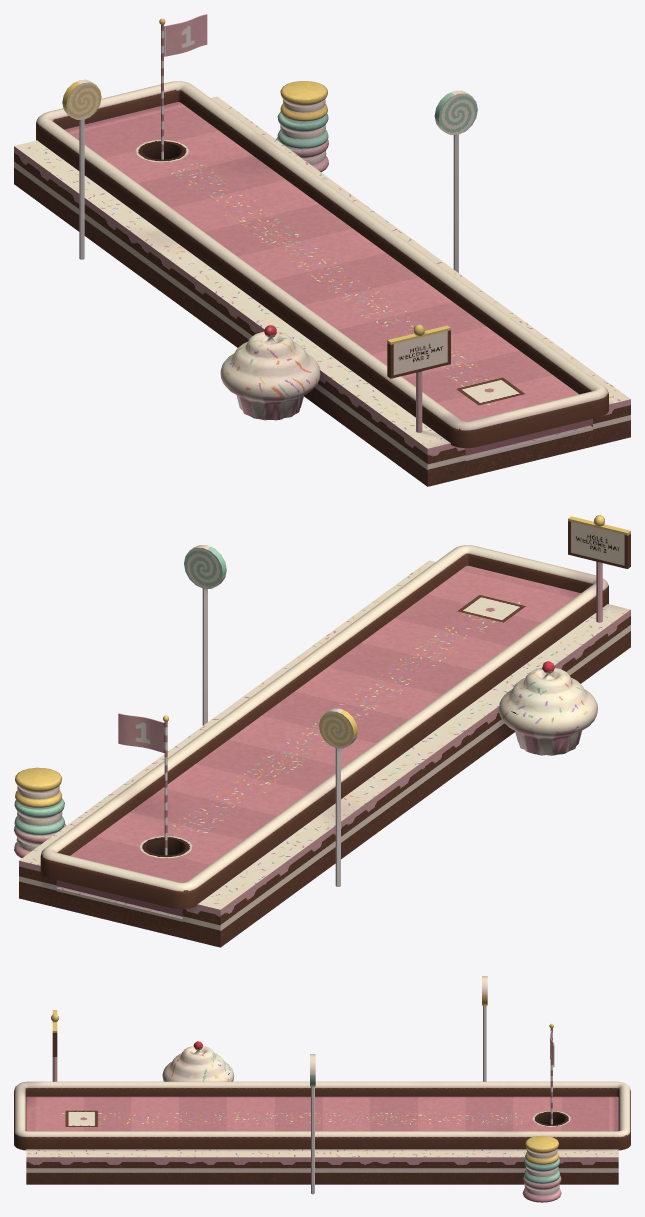
The model's file is hole01.glb.
3 renders of one model, top to bottom at view 1: azimuth 30°, elevation 25°; view 2: azimuth 150°, elevation 25°; view 3: azimuth 270°, elevation 25°, orthographic. The views are drawn at different scales.
Parts seen in each view (by area): view 1: Green, Base, Rails, Decor1, Decor3, HoleSign, Decor2, Decor4, Flag; view 2: Green, Rails, Base, Decor1, Decor3, HoleSign, Decor2, Decor4, Flag; view 3: Rails, Green, Base, Decor3, Decor1, Decor2, Decor4, HoleSign, Flag.
Part boxes in pixels (<box>): Green: <box>64,102,592,455</box>; Base: <box>14,96,630,486</box>; Rails: <box>36,81,608,448</box>; Decor1: <box>220,325,320,420</box>; Decor3: <box>276,81,328,172</box>; HoleSign: <box>387,324,450,432</box>; Decor2: <box>434,90,477,272</box>; Decor4: <box>62,79,101,259</box>; Flag: <box>159,14,207,159</box>; Green: <box>56,565,580,916</box>; Rails: <box>40,545,608,909</box>; Base: <box>19,560,630,947</box>; Decor1: <box>499,661,597,755</box>; Decor3: <box>14,767,66,858</box>; HoleSign: <box>568,515,630,622</box>; Decor2: <box>184,545,226,725</box>; Decor4: <box>319,708,357,886</box>; Flag: <box>118,713,168,855</box>; Rails: <box>14,1081,630,1150</box>; Green: <box>26,1096,618,1131</box>; Base: <box>26,1149,618,1184</box>; Decor3: <box>522,1135,561,1202</box>; Decor1: <box>162,1041,234,1081</box>; Decor2: <box>310,1054,315,1194</box>; Decor4: <box>482,976,487,1081</box>; HoleSign: <box>51,1010,58,1081</box>; Flag: <box>549,1024,554,1124</box>.
Size of what is drawn, in the model's own units: 2.93 by 1.59 by 6.46.
1 material, 1 textured.
